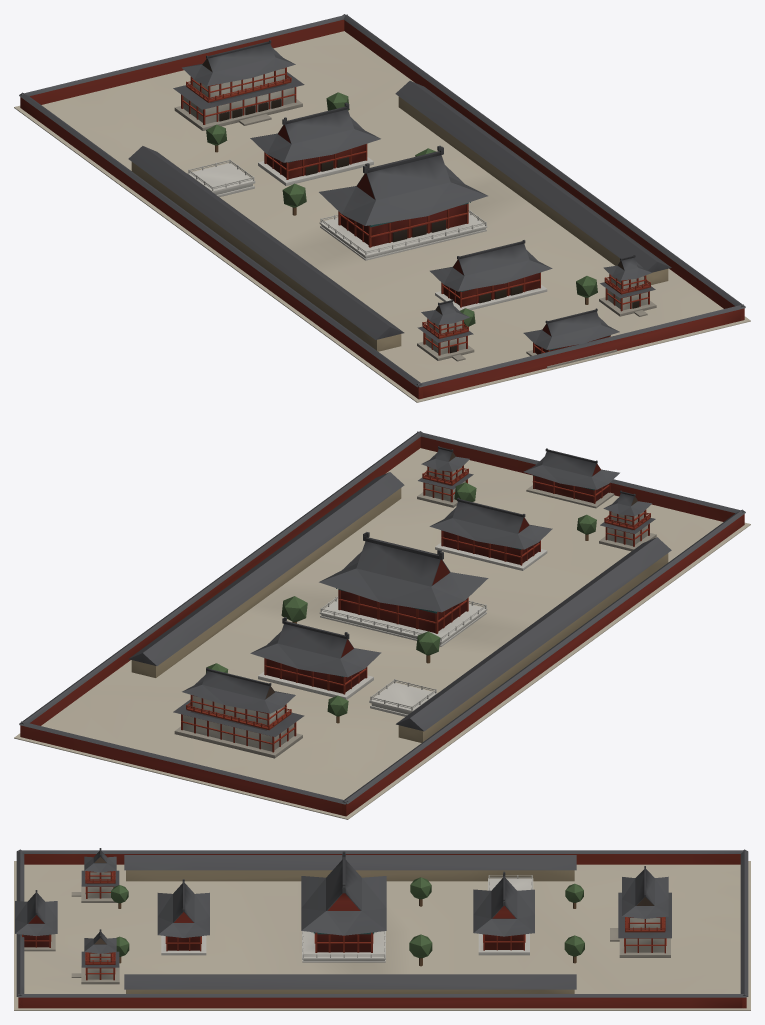
The model's file is guangji.glb.
3 renders of one model, top to bottom at view 1: azimuth 30°, elevation 25°; view 2: azimuth 150°, elevation 25°; view 3: azimuth 270°, elevation 25°, orthographic. The views are drawn at different scales.
Visible parts, largest first — view 1: p0_walls, p1_halls, p2_trees; view 2: p0_walls, p1_halls, p2_trees; view 3: p0_walls, p1_halls, p2_trees.
Part boxes in pixels (x1,y1,x2,y2): p0_walls: [14, 14, 750, 402]; p1_halls: [128, 67, 671, 368]; p2_trees: [173, 40, 655, 349]; p0_walls: [14, 431, 750, 819]; p1_halls: [128, 465, 671, 758]; p2_trees: [173, 446, 655, 736]; p0_walls: [14, 849, 750, 1010]; p1_halls: [21, 855, 670, 993]; p2_trees: [15, 848, 671, 967].
Bounding box in the file's own units: 110 × 23.58 × 230.
